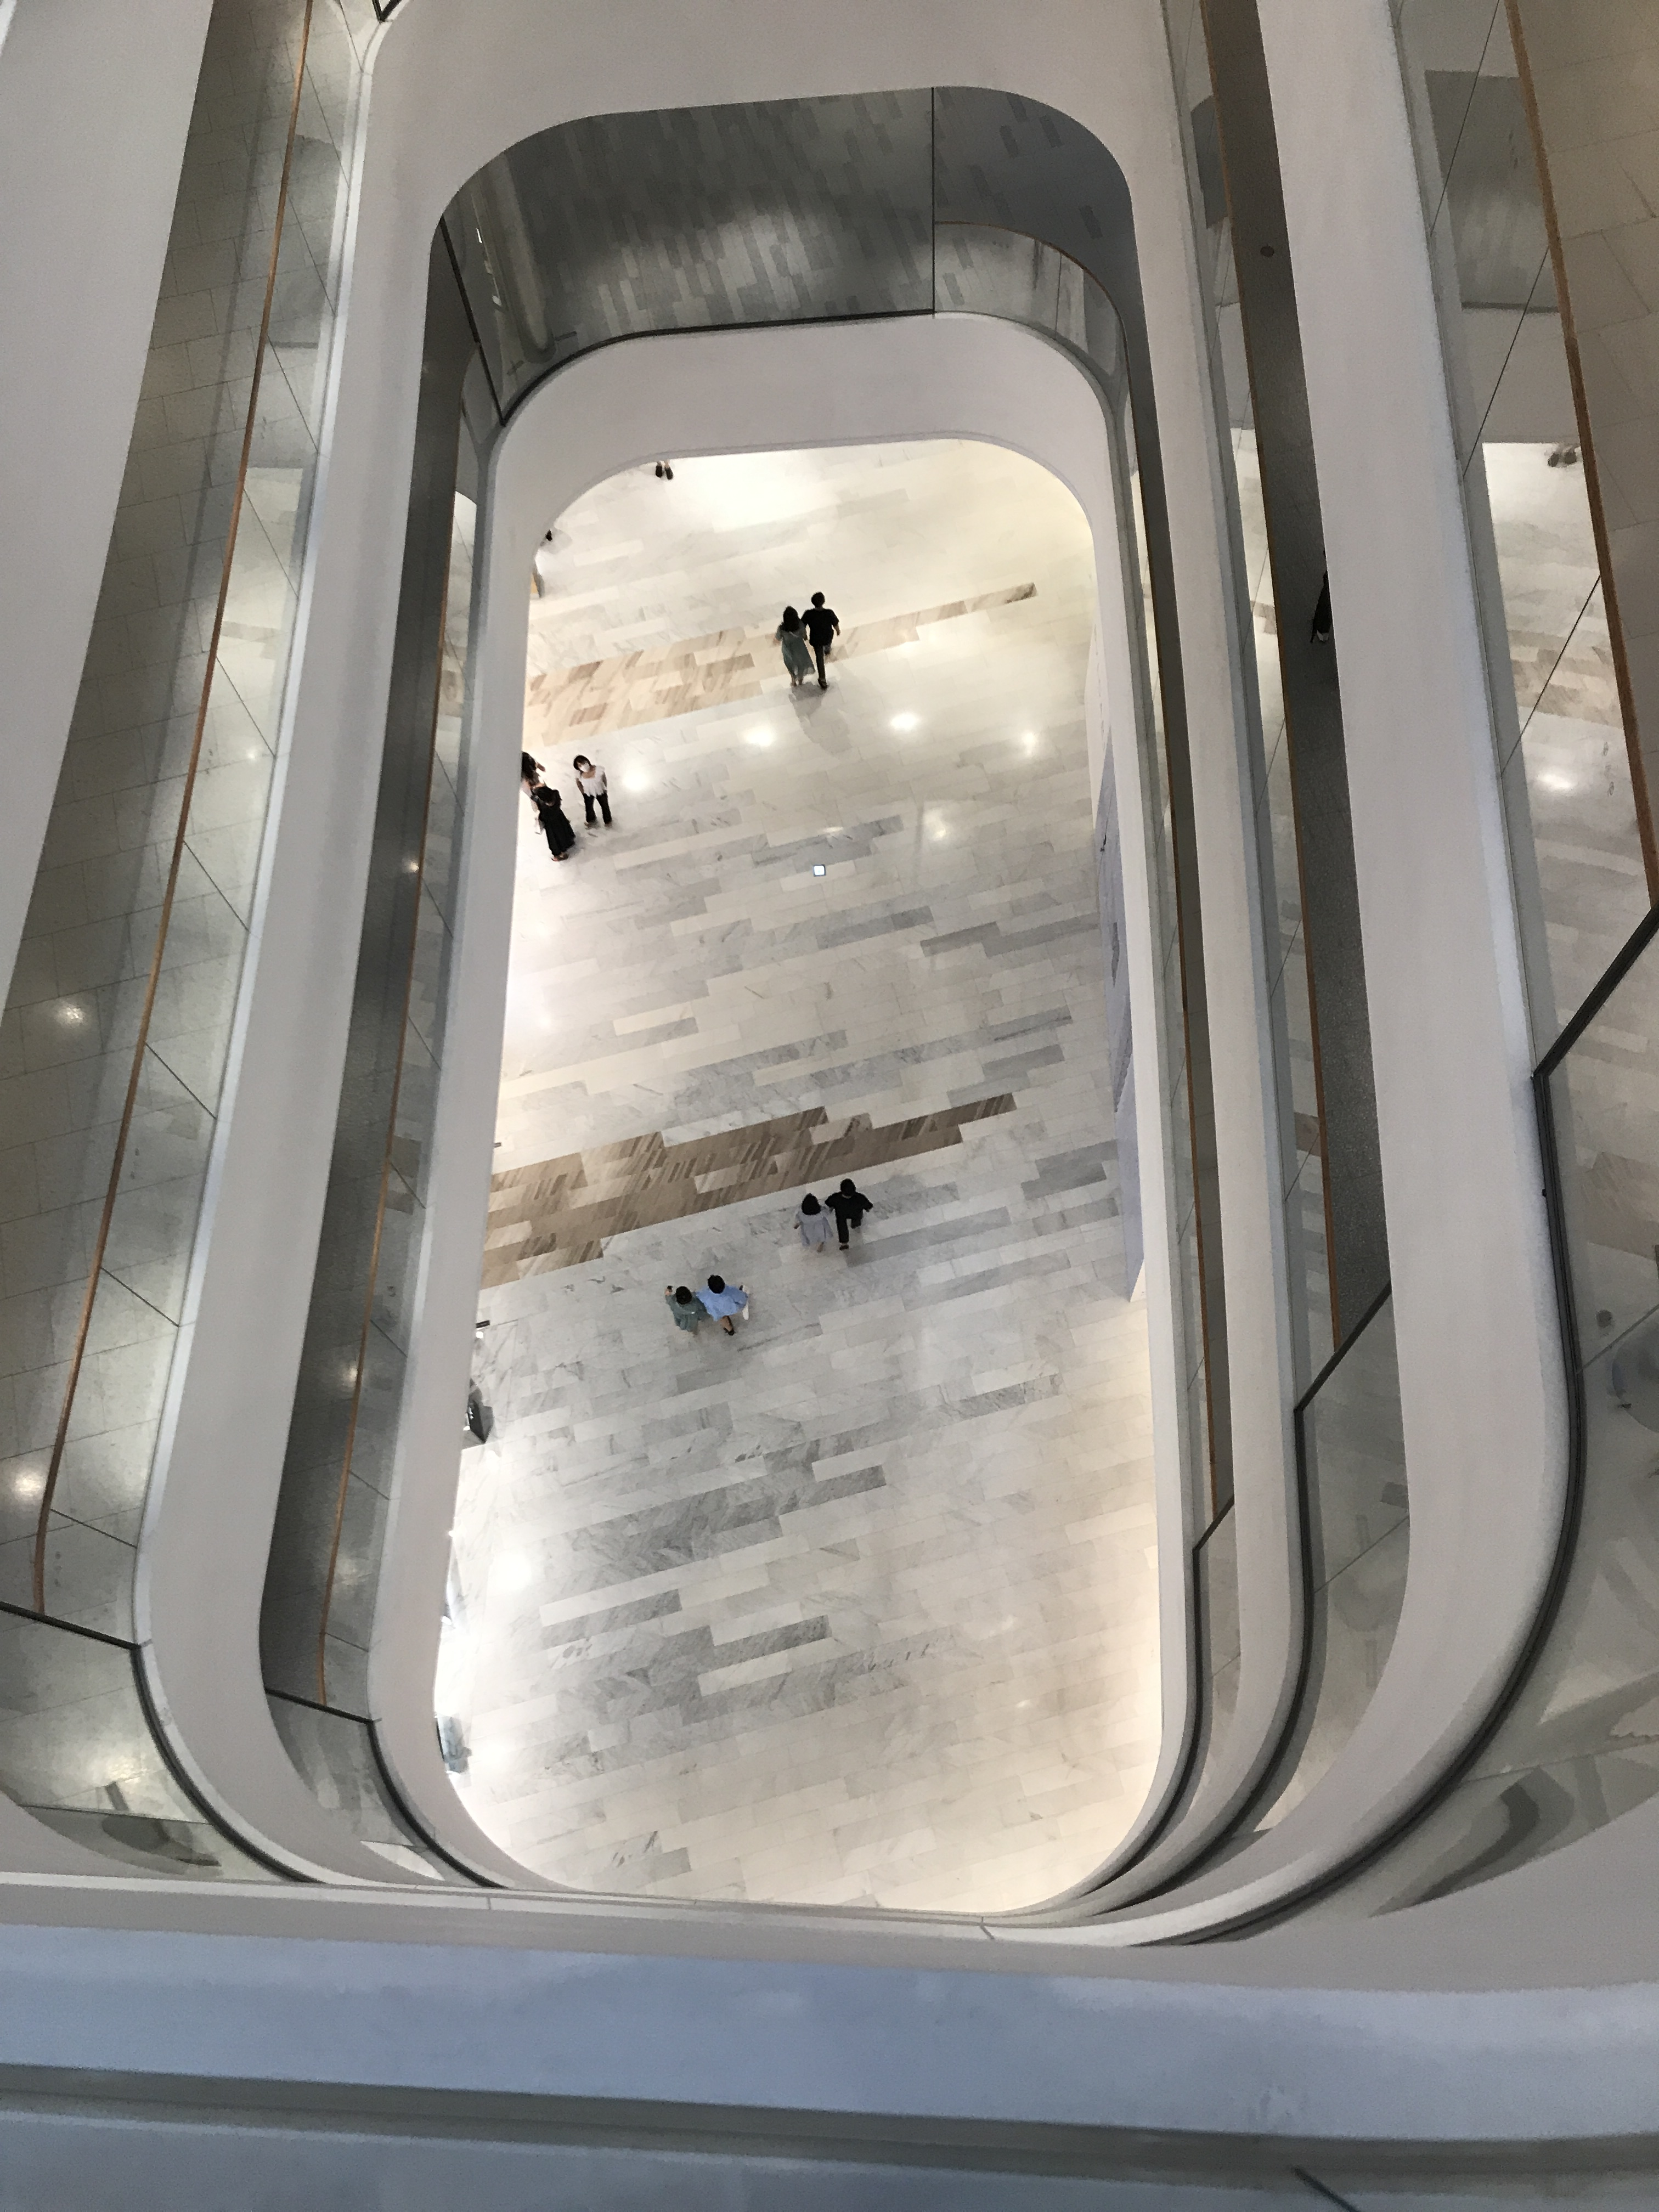person: (805, 590, 846, 698), (701, 1273, 755, 1340), (530, 785, 578, 860), (825, 1177, 870, 1253), (572, 754, 612, 831), (778, 606, 812, 689), (667, 1284, 707, 1345), (793, 1195, 832, 1258)
